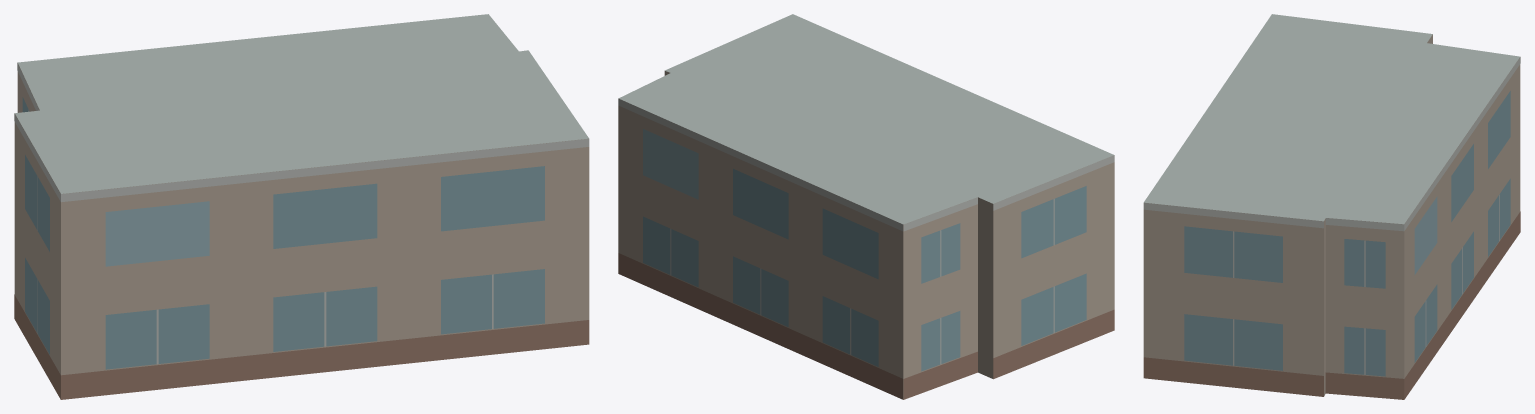
The model's file is survey-upis-32773365.glb.
3 views of the same model, side by side, from view 1: azimuth 30°, elevation 25°; view 2: azimuth 150°, elevation 25°; view 3: azimuth 270°, elevation 25° (orthographic). The views are drawn at different scales.
Visible parts, largest first — view 1: survey-upis-32773365.tmp; view 2: survey-upis-32773365.tmp; view 3: survey-upis-32773365.tmp.
Part boxes in pixels (box(x1,y1,x2,y2)): survey-upis-32773365.tmp: box(14, 14, 589, 399); survey-upis-32773365.tmp: box(618, 14, 1114, 399); survey-upis-32773365.tmp: box(1143, 14, 1520, 399).
Bounding box in the file's own units: 15.67 × 6.1 × 11.88.
